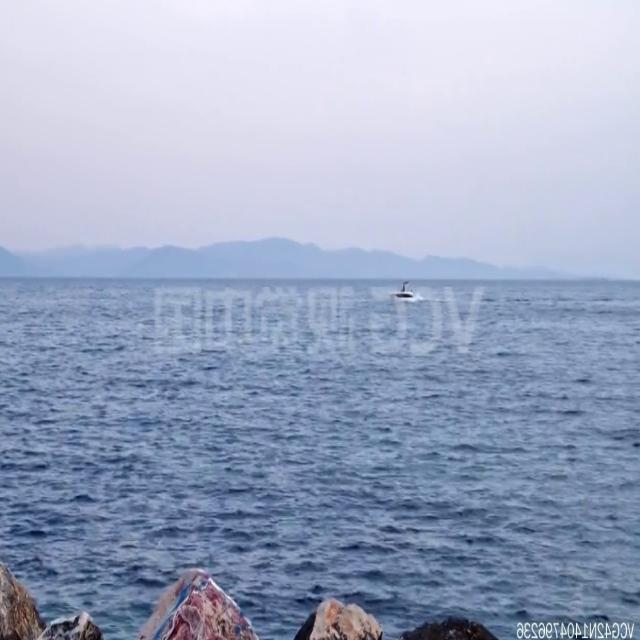houseboat: (390, 273, 417, 304)
